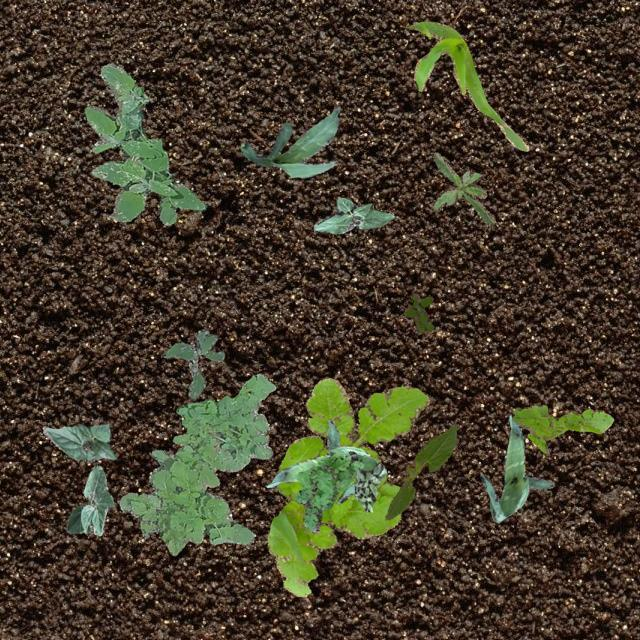crop: (407, 21, 527, 150), (266, 418, 386, 502), (479, 414, 554, 522), (240, 105, 338, 177), (384, 424, 458, 518), (66, 464, 112, 534), (312, 195, 393, 232), (41, 422, 116, 461)
weed: (266, 378, 428, 596), (120, 372, 274, 554), (84, 62, 206, 224), (294, 450, 362, 532), (512, 404, 612, 452), (162, 328, 224, 400), (432, 152, 493, 224), (354, 462, 382, 511), (403, 292, 432, 330)
